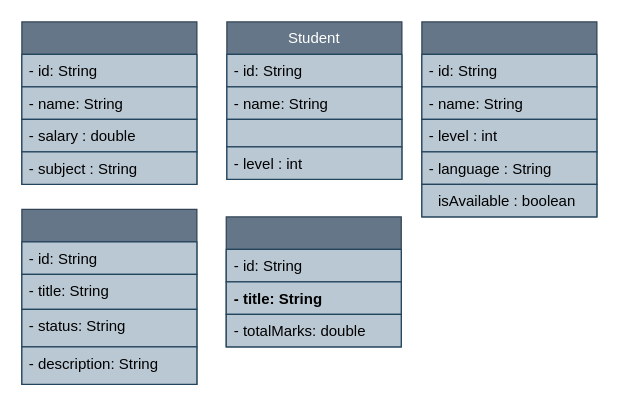
This 619x410 diagram has some shape labels left out. The shapes that lost their labels are listed below. From the top down, each one's box as (x1, y1, x2, y2) in pixels, then its label:
(21, 21, 197, 184): Teacher
(421, 21, 597, 217): Course
(226, 118, 402, 147): - email : String
(21, 208, 197, 384): Project
(225, 216, 401, 347): Assignment
